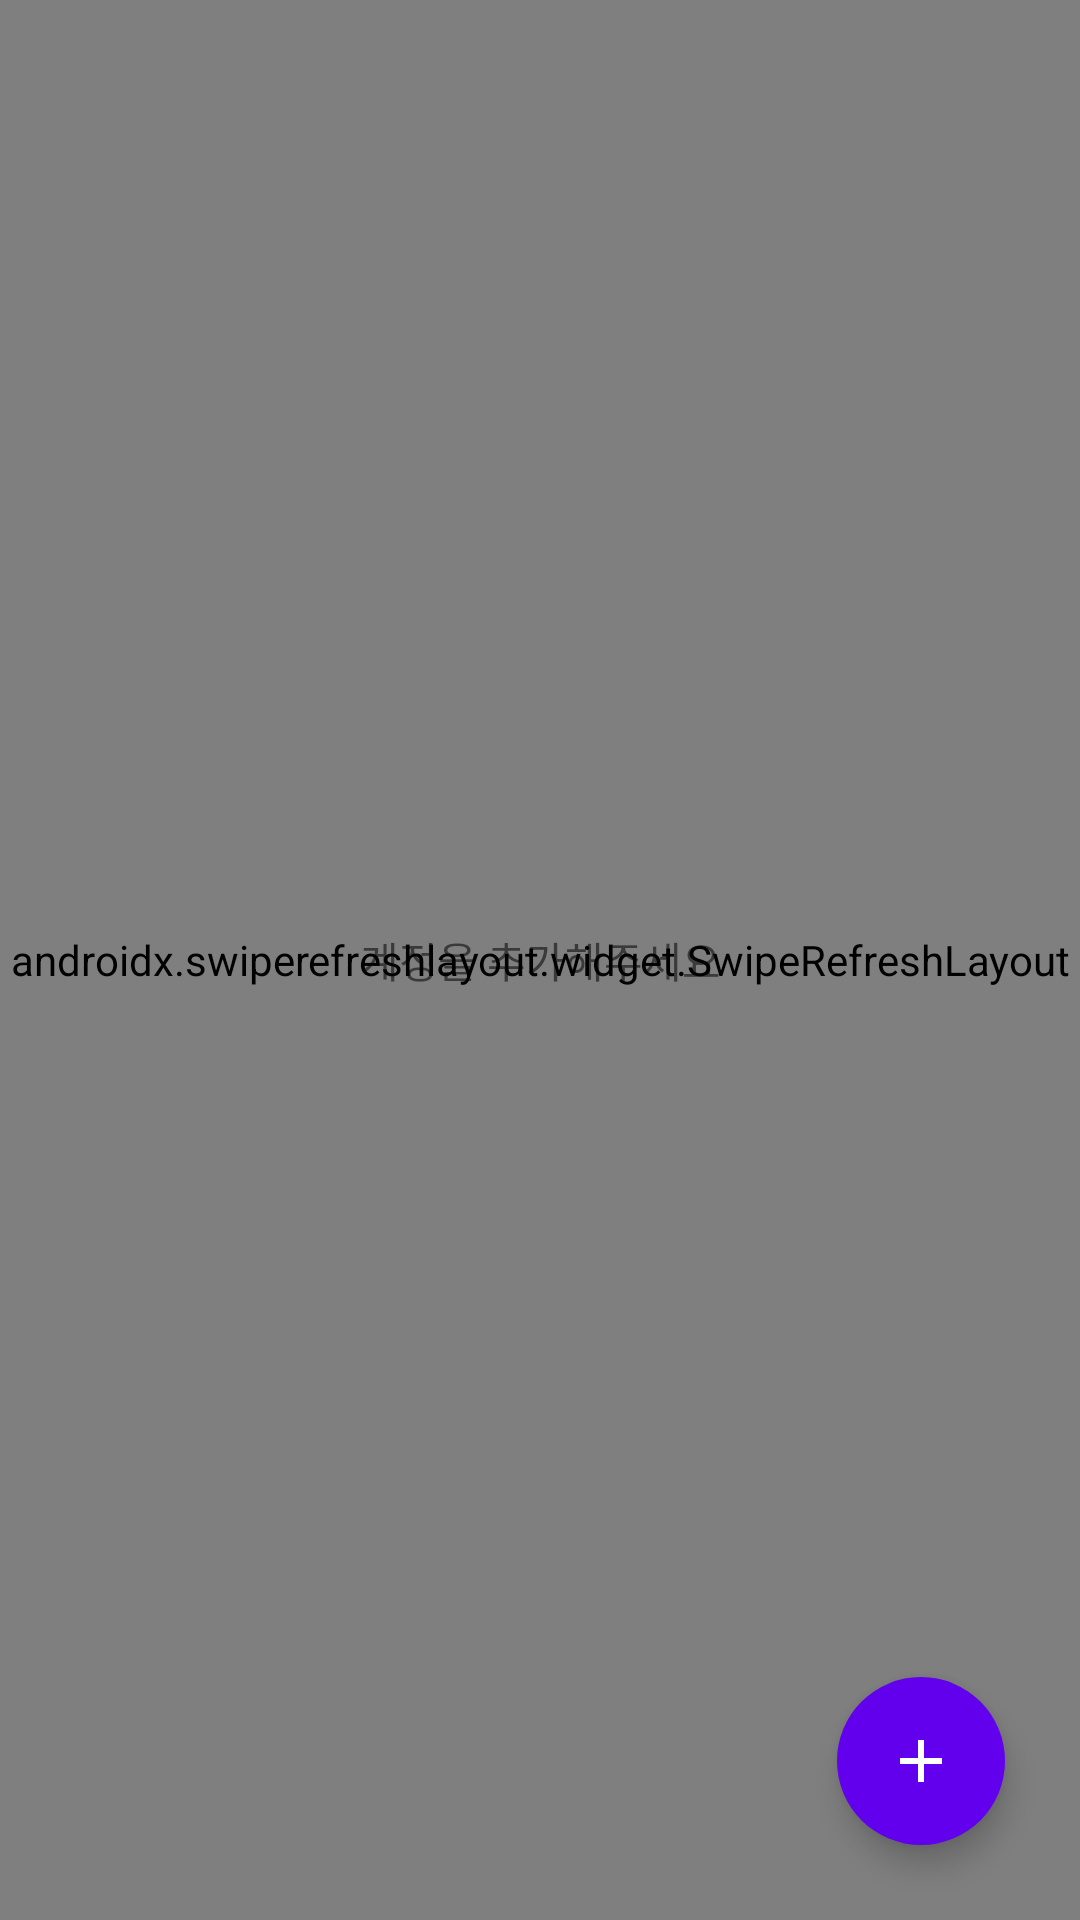

Named icons in this screenshot (1080x1920) and their bounding boxes, {"left": x1, "top": y1, "right": x2, "bottom": y2}:
add: {"left": 837, "top": 1677, "right": 1005, "bottom": 1845}
